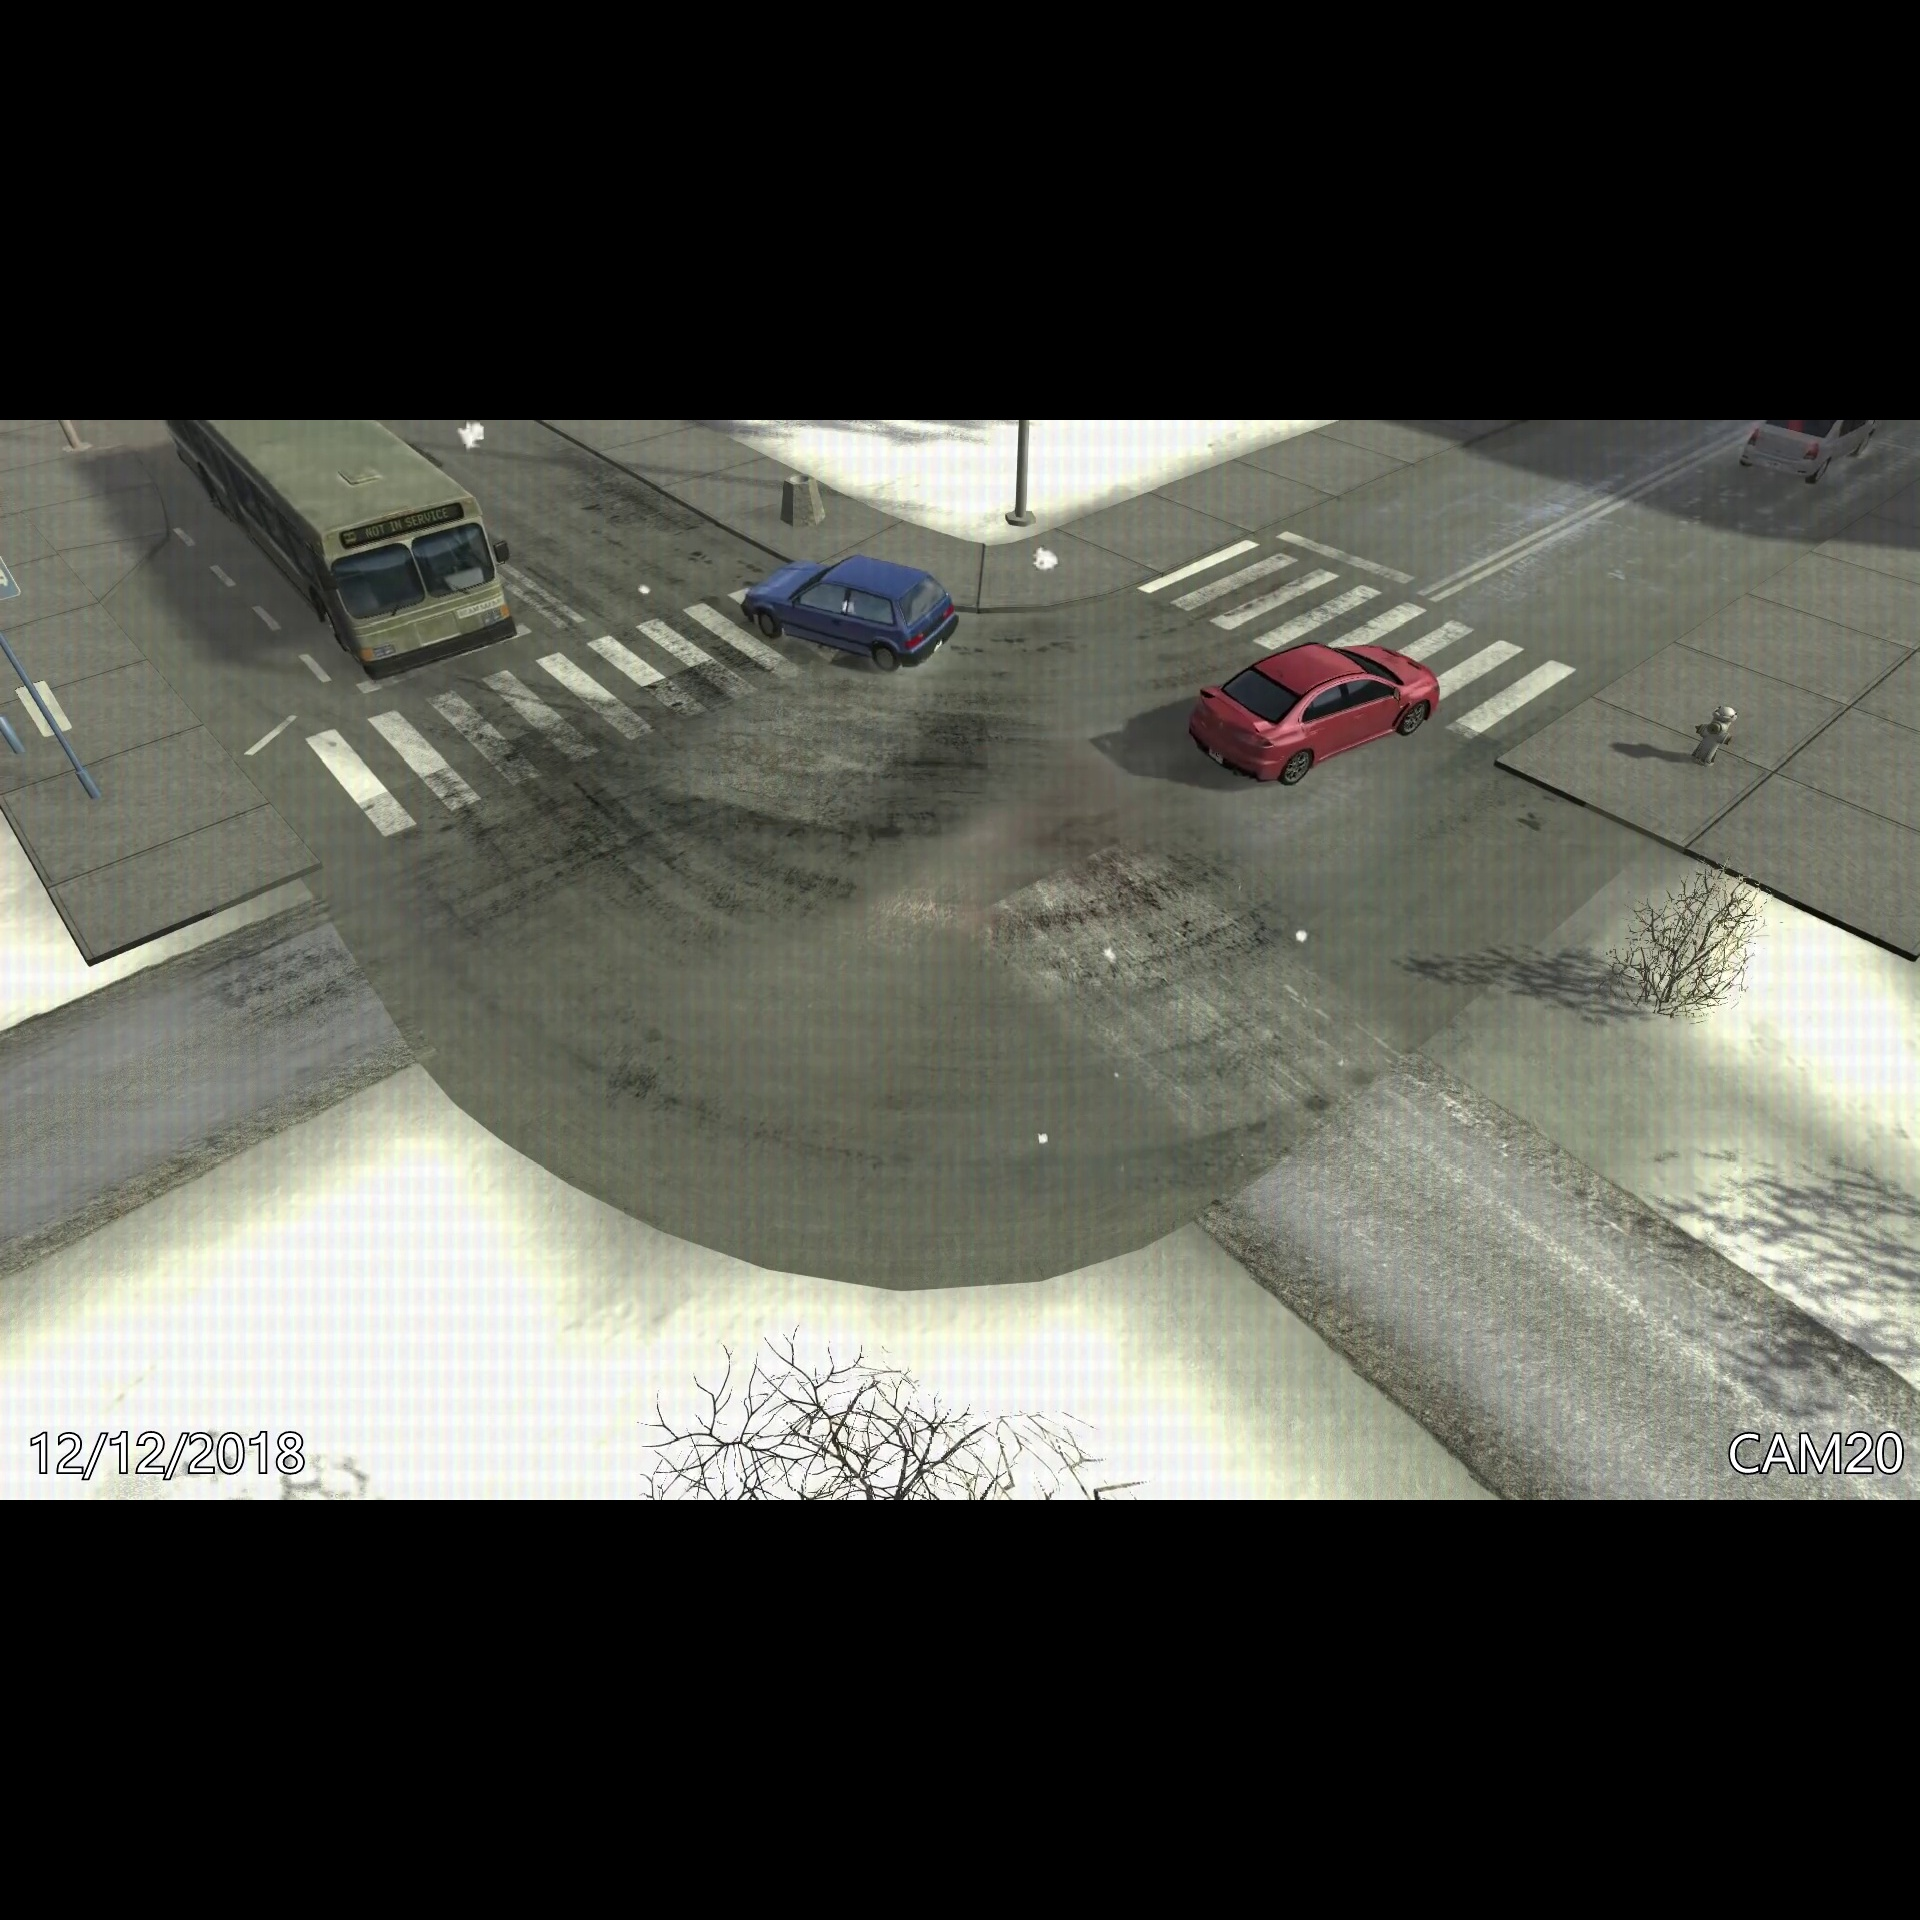vehicle: (162, 420, 526, 682), (1180, 635, 1442, 804), (738, 556, 965, 675), (1730, 420, 1894, 492)
